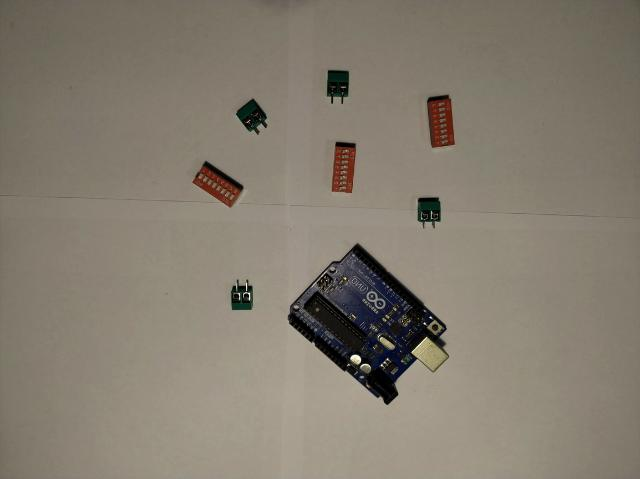arduino: (288, 243, 450, 407)
dip_switch: (192, 163, 242, 207), (428, 97, 454, 148), (331, 146, 357, 194)
terminal_block: (237, 98, 267, 135), (326, 70, 349, 104), (230, 278, 253, 311), (417, 198, 441, 228)
